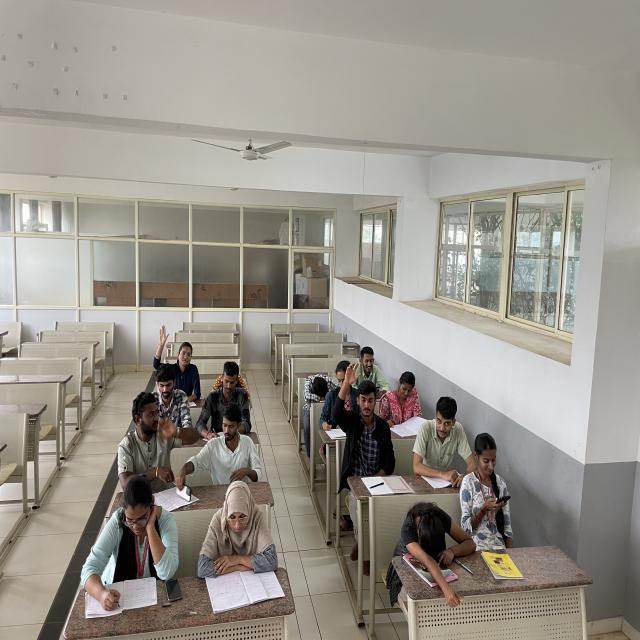Hand Rising: (330, 361, 396, 483), (149, 322, 205, 388)
Reading: (196, 476, 286, 608), (411, 395, 476, 494), (376, 368, 428, 434)
Sleeping: (393, 500, 478, 581), (299, 372, 337, 413)
Using Phone: (175, 403, 262, 499), (457, 431, 516, 536), (153, 361, 200, 441)
Writing: (76, 471, 185, 629), (197, 361, 249, 443), (320, 360, 358, 442)
